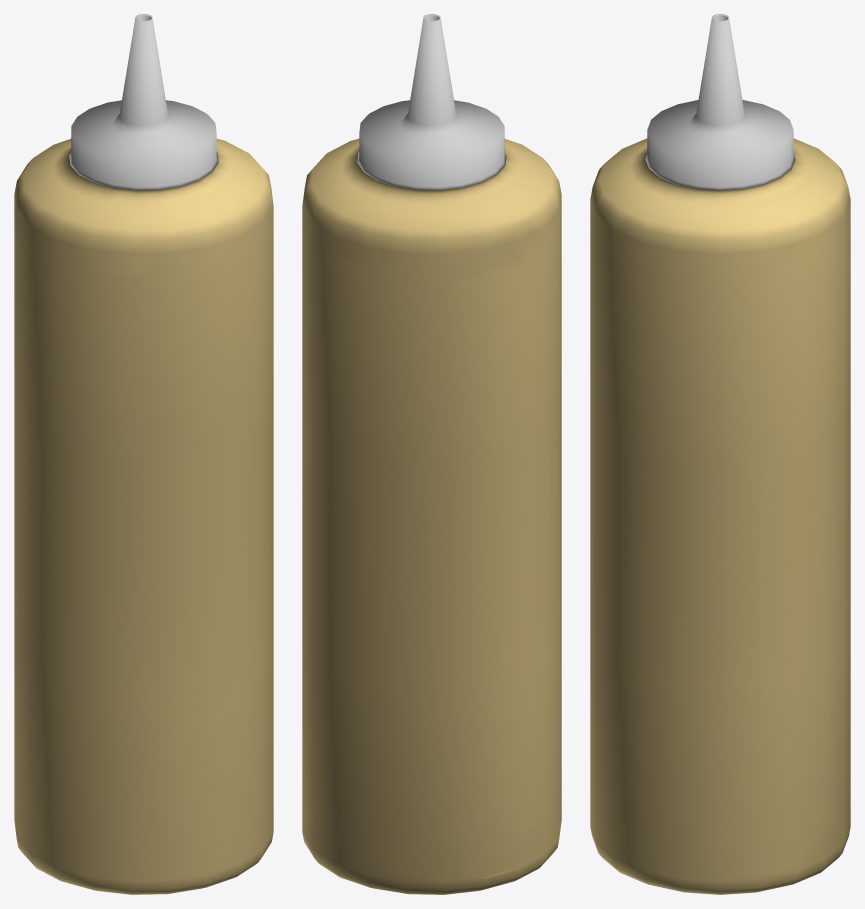
The model's file is mayo_bottle.obj.
3 renders of one model, left to right at view 1: azimuth 30°, elevation 25°; view 2: azimuth 150°, elevation 25°; view 3: azimuth 270°, elevation 25°, orthographic.
Visible parts, largest first — view 1: Mayo_bottle_mayo_bottle, Mayo_bottle_mayo-head; view 2: Mayo_bottle_mayo_bottle, Mayo_bottle_mayo-head; view 3: Mayo_bottle_mayo_bottle, Mayo_bottle_mayo-head.
Part boxes in pixels (x1,y1,x2,y2): Mayo_bottle_mayo_bottle: (14,138,273,894); Mayo_bottle_mayo-head: (69,14,218,190); Mayo_bottle_mayo_bottle: (302,138,561,894); Mayo_bottle_mayo-head: (357,14,506,190); Mayo_bottle_mayo_bottle: (590,138,850,894); Mayo_bottle_mayo-head: (645,14,795,190).
Size of the model in its own units: 0.0816 by 0.2868 by 0.0816.
